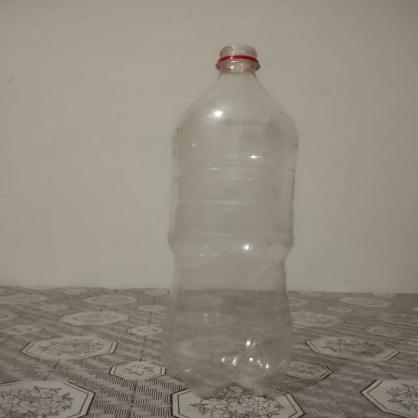bottle: (161, 43, 301, 397)
